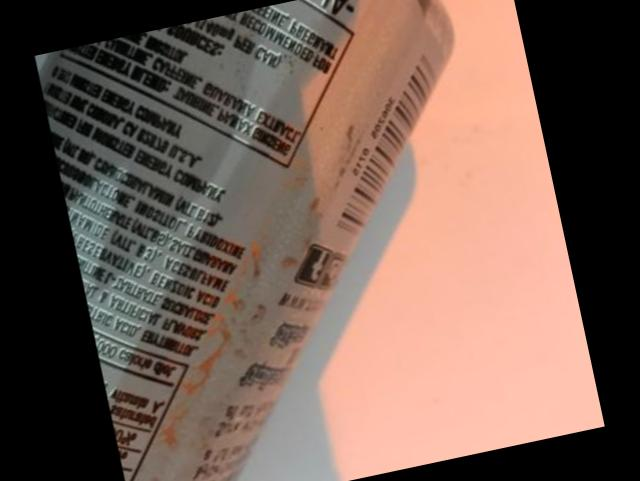metal: (46, 0, 455, 481)
